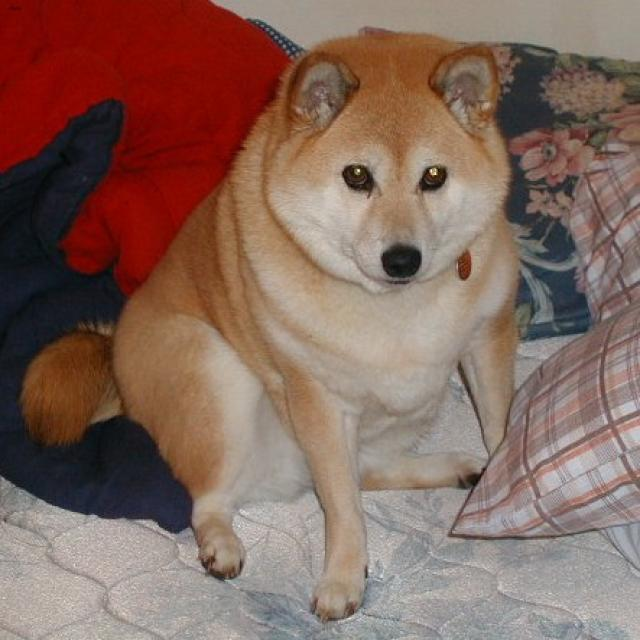dog-shiba_inu: (14, 19, 527, 625)
